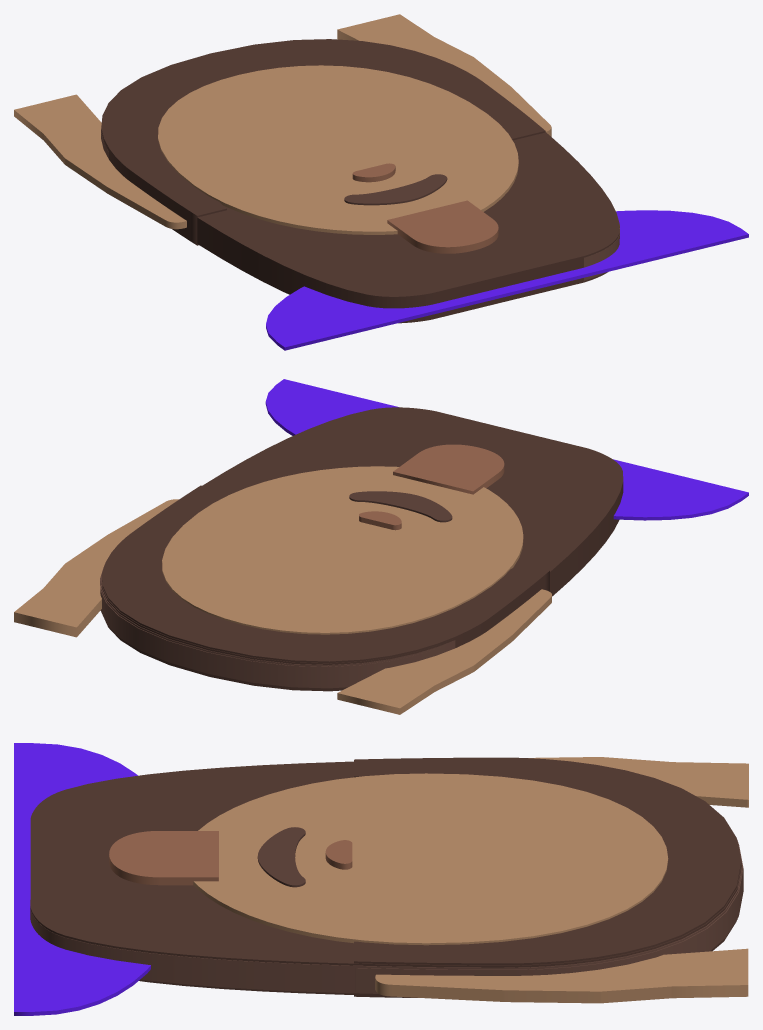
File: emoji_u1f486_1f3fd_200d_2640.glb
3 renders of one model, top to bottom at view 1: azimuth 30°, elevation 25°; view 2: azimuth 150°, elevation 25°; view 3: azimuth 270°, elevation 25°, orthographic. The views are drawn at different scales.
Visible parts, largest first — view 1: emoji_u1f486_1f3fd_200d_2640; view 2: emoji_u1f486_1f3fd_200d_2640; view 3: emoji_u1f486_1f3fd_200d_2640.
Part boxes in pixels (x1,y1,x2,y2): emoji_u1f486_1f3fd_200d_2640: (14,14,748,350); emoji_u1f486_1f3fd_200d_2640: (14,379,748,714); emoji_u1f486_1f3fd_200d_2640: (14,743,748,1015).
Size of the model in its own units: 0.0294 by 0.0026 by 0.0339.
